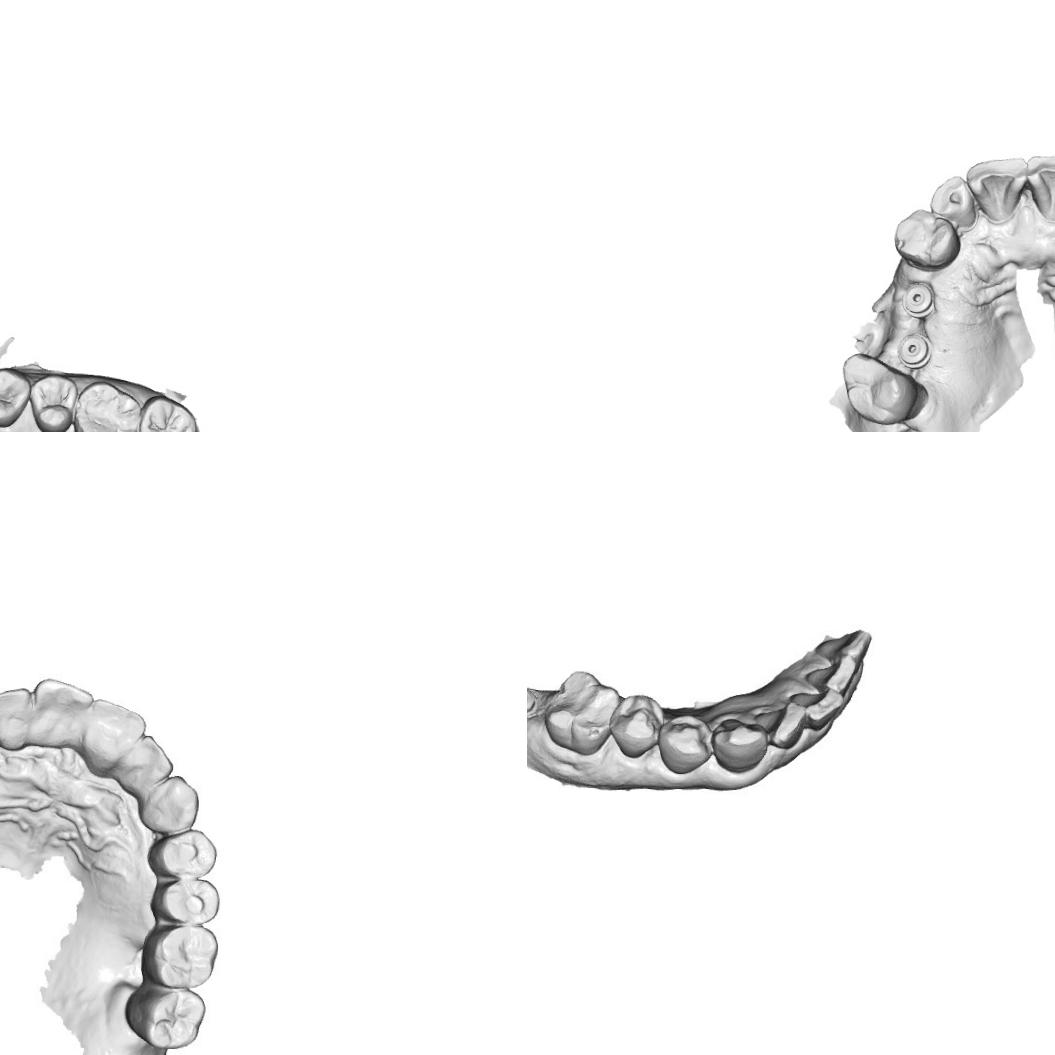canine: (136, 773, 202, 837), (710, 718, 766, 772)
implant: (899, 280, 939, 322), (894, 330, 934, 370), (527, 678, 545, 728)
incisor: (77, 696, 148, 780), (30, 675, 95, 750), (963, 154, 1029, 225), (112, 731, 176, 794), (927, 174, 982, 232), (0, 684, 37, 753), (1025, 154, 1055, 223), (811, 657, 859, 693), (792, 691, 842, 724), (763, 706, 804, 744)
molar: (546, 662, 620, 759), (840, 352, 928, 428), (120, 982, 209, 1052), (138, 920, 222, 990), (70, 379, 142, 432), (133, 393, 199, 432)
premolar: (892, 207, 962, 272), (146, 827, 219, 886), (610, 694, 666, 762), (148, 876, 223, 926), (26, 371, 78, 432), (661, 714, 708, 779), (0, 364, 32, 429)
